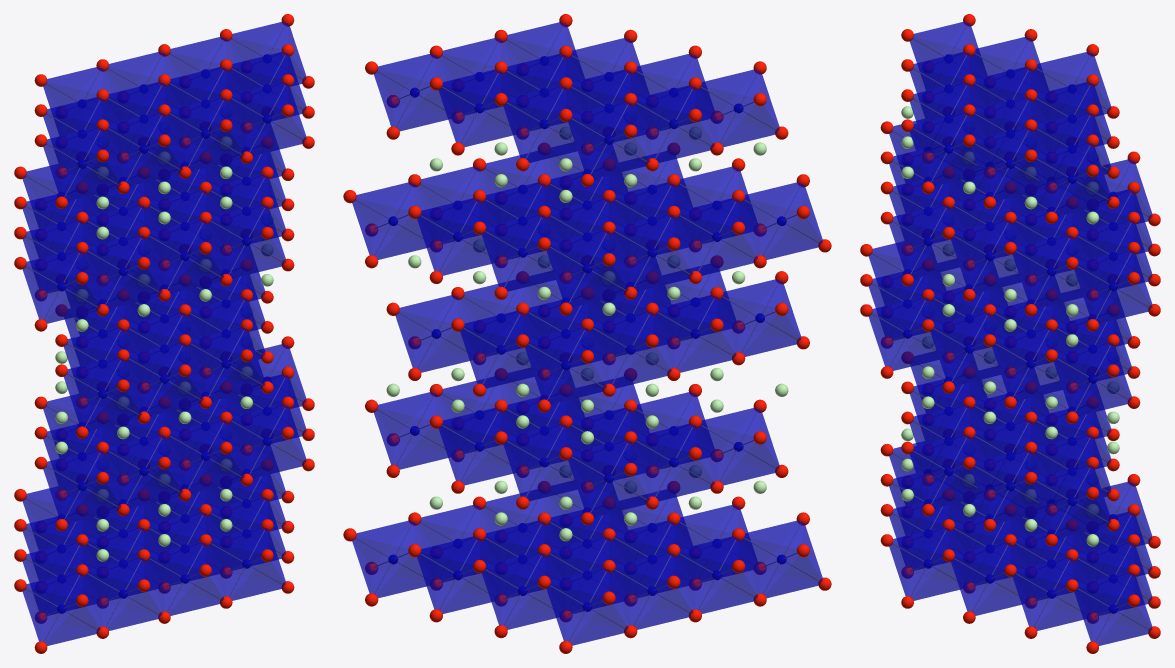
Rendered from LiCoO2_2.fbx.
The picture shows the model from 3 angles, left to right: view 1: azimuth 30°, elevation 25°; view 2: azimuth 150°, elevation 25°; view 3: azimuth 270°, elevation 25°; orthographic projection. The views are drawn at different scales.
Visible parts, largest first — view 1: Shape_IndexedFaceSet.004, Shape_IndexedFaceSet.108, Shape_IndexedFaceSet.196, Shape_IndexedFaceSet.156, Shape_IndexedFaceSet.292, Shape_IndexedFaceSet.364, Shape_IndexedFaceSet.228, Shape_IndexedFaceSet.428, Shape_IndexedFaceSet.052, Shape_IndexedFaceSet.260, Shape_IndexedFaceSet.356, Shape_IndexedFaceSet.060 (+224 smaller); view 2: Shape_IndexedFaceSet.134, Shape_IndexedFaceSet.350, Shape_IndexedFaceSet.342, Shape_IndexedFaceSet.534, Shape_IndexedFaceSet.038, Shape_IndexedFaceSet.094, Shape_IndexedFaceSet.158, Shape_IndexedFaceSet.262, Shape_IndexedFaceSet.518, Shape_IndexedFaceSet.174, Shape_IndexedFaceSet.254, Shape_IndexedFaceSet.406 (+252 smaller); view 3: Shape_IndexedFaceSet.040, Shape_IndexedFaceSet.024, Shape_IndexedFaceSet.288, Shape_IndexedFaceSet.304, Shape_IndexedFaceSet.328, Shape_IndexedFaceSet.344, Shape_IndexedFaceSet.208, Shape_IndexedFaceSet.008, Shape_IndexedFaceSet.216, Shape_IndexedFaceSet.200, Shape_IndexedFaceSet.296, Shape_IndexedFaceSet.312 (+232 smaller).
Boxes of the visible parts, x1=… form: Shape_IndexedFaceSet.004: x1=228, y1=419, x2=283, y2=474; Shape_IndexedFaceSet.108: x1=105, y1=127, x2=159, y2=182; Shape_IndexedFaceSet.196: x1=187, y1=342, x2=242, y2=397; Shape_IndexedFaceSet.156: x1=43, y1=142, x2=98, y2=197; Shape_IndexedFaceSet.292: x1=208, y1=542, x2=262, y2=597; Shape_IndexedFaceSet.364: x1=146, y1=235, x2=200, y2=290; Shape_IndexedFaceSet.228: x1=125, y1=357, x2=180, y2=412; Shape_IndexedFaceSet.428: x1=84, y1=250, x2=139, y2=305; Shape_IndexedFaceSet.052: x1=166, y1=434, x2=221, y2=489; Shape_IndexedFaceSet.260: x1=64, y1=372, x2=118, y2=427; Shape_IndexedFaceSet.356: x1=146, y1=557, x2=200, y2=612; Shape_IndexedFaceSet.060: x1=167, y1=112, x2=221, y2=167; Shape_IndexedFaceSet.134: x1=503, y1=439, x2=560, y2=497; Shape_IndexedFaceSet.350: x1=352, y1=198, x2=409, y2=256; Shape_IndexedFaceSet.342: x1=352, y1=536, x2=409, y2=594; Shape_IndexedFaceSet.534: x1=546, y1=584, x2=604, y2=641; Shape_IndexedFaceSet.038: x1=374, y1=408, x2=431, y2=466; Shape_IndexedFaceSet.094: x1=438, y1=85, x2=496, y2=143; Shape_IndexedFaceSet.158: x1=697, y1=85, x2=755, y2=143; Shape_IndexedFaceSet.262: x1=719, y1=295, x2=776, y2=353; Shape_IndexedFaceSet.518: x1=611, y1=568, x2=668, y2=626; Shape_IndexedFaceSet.174: x1=633, y1=101, x2=690, y2=159; Shape_IndexedFaceSet.254: x1=460, y1=326, x2=517, y2=384; Shape_IndexedFaceSet.406: x1=417, y1=552, x2=474, y2=610; Shape_IndexedFaceSet.040: x1=1033, y1=157, x2=1088, y2=212; Shape_IndexedFaceSet.024: x1=971, y1=142, x2=1026, y2=197; Shape_IndexedFaceSet.288: x1=889, y1=542, x2=944, y2=597; Shape_IndexedFaceSet.304: x1=951, y1=557, x2=1005, y2=612; Shape_IndexedFaceSet.328: x1=1012, y1=249, x2=1067, y2=305; Shape_IndexedFaceSet.344: x1=1074, y1=265, x2=1129, y2=320; Shape_IndexedFaceSet.208: x1=992, y1=342, x2=1046, y2=397; Shape_IndexedFaceSet.008: x1=910, y1=127, x2=964, y2=182; Shape_IndexedFaceSet.216: x1=1054, y1=357, x2=1108, y2=412; Shape_IndexedFaceSet.200: x1=930, y1=327, x2=985, y2=382; Shape_IndexedFaceSet.296: x1=889, y1=219, x2=944, y2=275; Shape_IndexedFaceSet.312: x1=951, y1=235, x2=1005, y2=290.
Bounding box in the file's own units: 1599 × 2129 × 1188.
